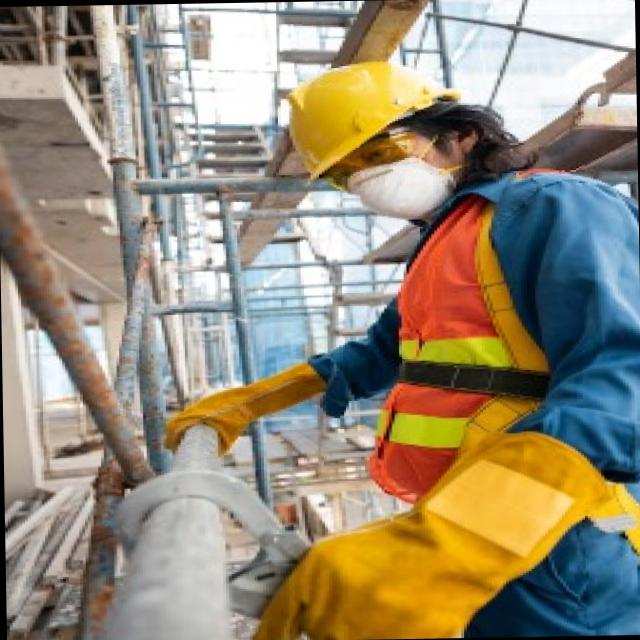gloved: (242, 424, 634, 640), (160, 352, 316, 461)
